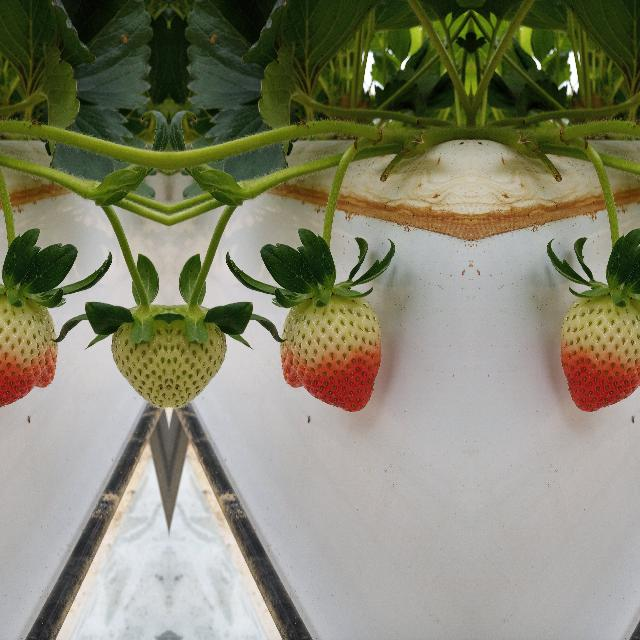Health_25: (168, 308, 230, 416), (106, 308, 168, 416)
Health_50: (278, 292, 382, 413), (559, 292, 640, 413), (0, 292, 57, 413)
